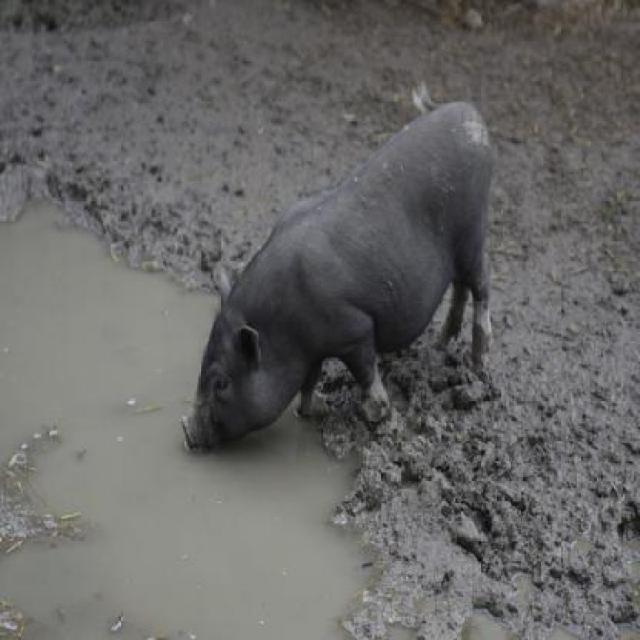pig: (177, 92, 495, 471)
